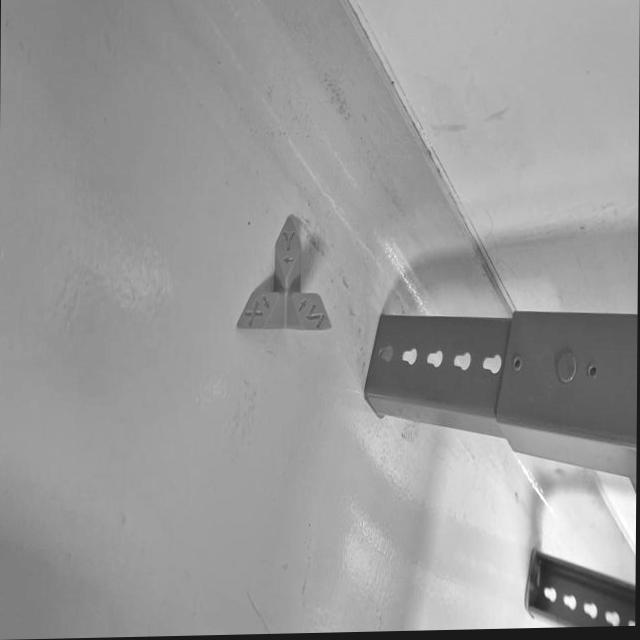eje: (233, 212, 333, 335)
